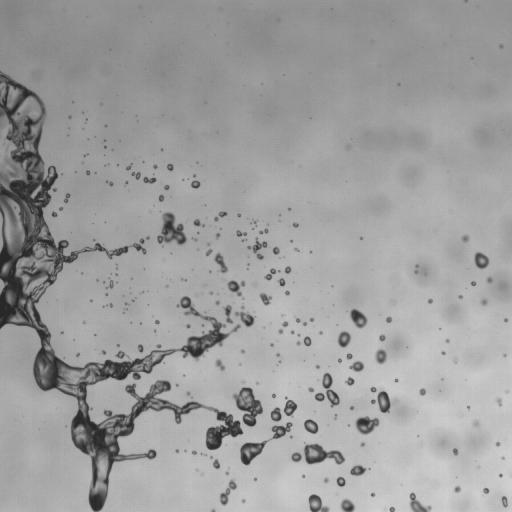droplet: (157, 213, 186, 244), (314, 372, 340, 406), (370, 387, 397, 413), (270, 397, 297, 421), (234, 305, 254, 327), (355, 416, 379, 434), (409, 492, 431, 511), (248, 238, 267, 259), (349, 308, 367, 328), (271, 422, 292, 439), (308, 494, 329, 511), (227, 280, 245, 297), (474, 252, 489, 269), (337, 331, 351, 347), (304, 419, 318, 433), (340, 498, 355, 511), (350, 465, 367, 475), (375, 349, 386, 364), (349, 360, 364, 371), (296, 336, 311, 346), (265, 268, 277, 280), (259, 293, 271, 305), (236, 230, 246, 241), (215, 359, 224, 370), (143, 176, 156, 183), (190, 179, 200, 188), (336, 476, 345, 486), (345, 377, 354, 385), (193, 219, 203, 226), (213, 459, 220, 469), (501, 496, 507, 507), (132, 172, 140, 179), (461, 235, 469, 242), (278, 278, 285, 286), (64, 193, 70, 202), (496, 397, 502, 406), (272, 247, 279, 254), (205, 248, 212, 255), (285, 266, 291, 273), (481, 298, 487, 305), (379, 334, 385, 341), (419, 388, 425, 395), (472, 420, 479, 426), (138, 344, 143, 352), (167, 164, 173, 170), (51, 211, 57, 217), (486, 277, 492, 283), (282, 321, 288, 327), (346, 353, 352, 359), (454, 486, 460, 492), (159, 194, 164, 201), (452, 448, 457, 455), (126, 164, 131, 170), (107, 181, 113, 186), (386, 316, 391, 322), (308, 387, 314, 392), (389, 506, 395, 511), (164, 185, 169, 190), (252, 220, 257, 225), (293, 222, 298, 227), (295, 317, 300, 322), (483, 488, 488, 493), (471, 281, 476, 285), (428, 298, 432, 303), (278, 329, 283, 333), (453, 358, 457, 363), (324, 477, 328, 482), (499, 44, 503, 48), (153, 164, 157, 168), (237, 213, 241, 217), (285, 291, 289, 295), (155, 320, 159, 324), (186, 324, 190, 328), (290, 330, 294, 334), (186, 391, 190, 395), (360, 442, 364, 446), (496, 442, 500, 446), (192, 450, 196, 454), (253, 477, 257, 481), (216, 233, 219, 238), (84, 153, 88, 156), (86, 170, 89, 174), (192, 237, 196, 240), (294, 248, 298, 251), (215, 301, 219, 304), (108, 303, 112, 306), (504, 318, 508, 321), (302, 322, 306, 325), (446, 339, 449, 343), (102, 350, 105, 354), (441, 351, 445, 354), (276, 353, 280, 356), (225, 471, 228, 475), (59, 207, 62, 210), (415, 264, 418, 267), (414, 270, 417, 273), (182, 278, 185, 281), (459, 295, 462, 298), (310, 318, 313, 321), (241, 350, 244, 353), (338, 359, 341, 362), (316, 365, 319, 368), (272, 394, 275, 397), (350, 406, 353, 409), (334, 415, 337, 418), (371, 493, 374, 496), (242, 499, 245, 502), (211, 509, 215, 511), (125, 181, 127, 184), (210, 291, 212, 294), (319, 331, 321, 334), (297, 334, 300, 336), (270, 344, 273, 346), (395, 378, 397, 381), (467, 406, 470, 408), (176, 449, 178, 452), (202, 453, 205, 455), (302, 475, 305, 477), (499, 474, 502, 476), (69, 116, 71, 118), (207, 243, 209, 245), (77, 353, 79, 355), (503, 354, 505, 356), (242, 382, 244, 384)
ligament: (0, 71, 262, 511), (291, 443, 345, 464), (240, 439, 269, 465), (220, 479, 236, 505), (214, 253, 227, 273), (223, 305, 232, 323), (214, 211, 226, 221), (107, 279, 114, 288), (259, 228, 268, 234), (464, 0, 467, 1)
